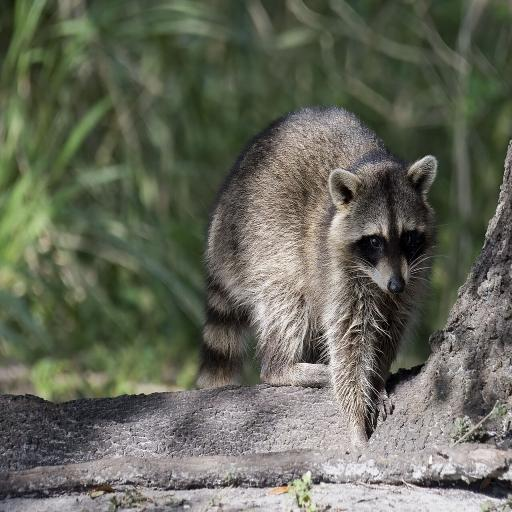raccoon: (198, 107, 436, 446)
